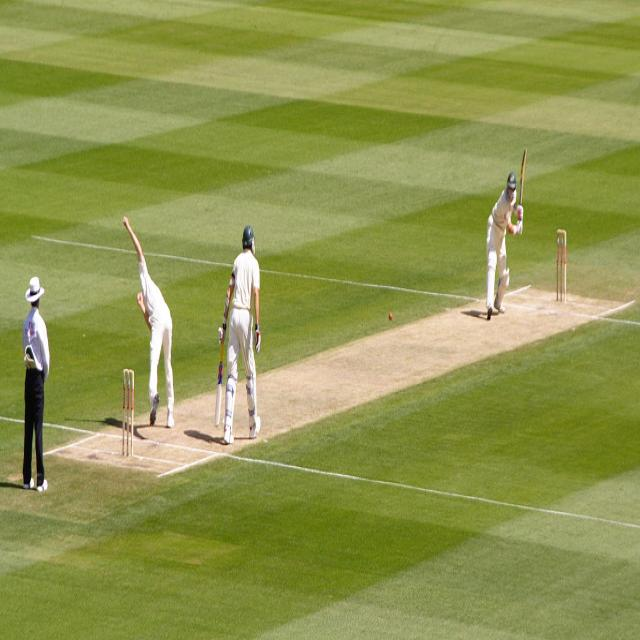stump: (120, 368, 135, 460), (556, 227, 568, 306)
